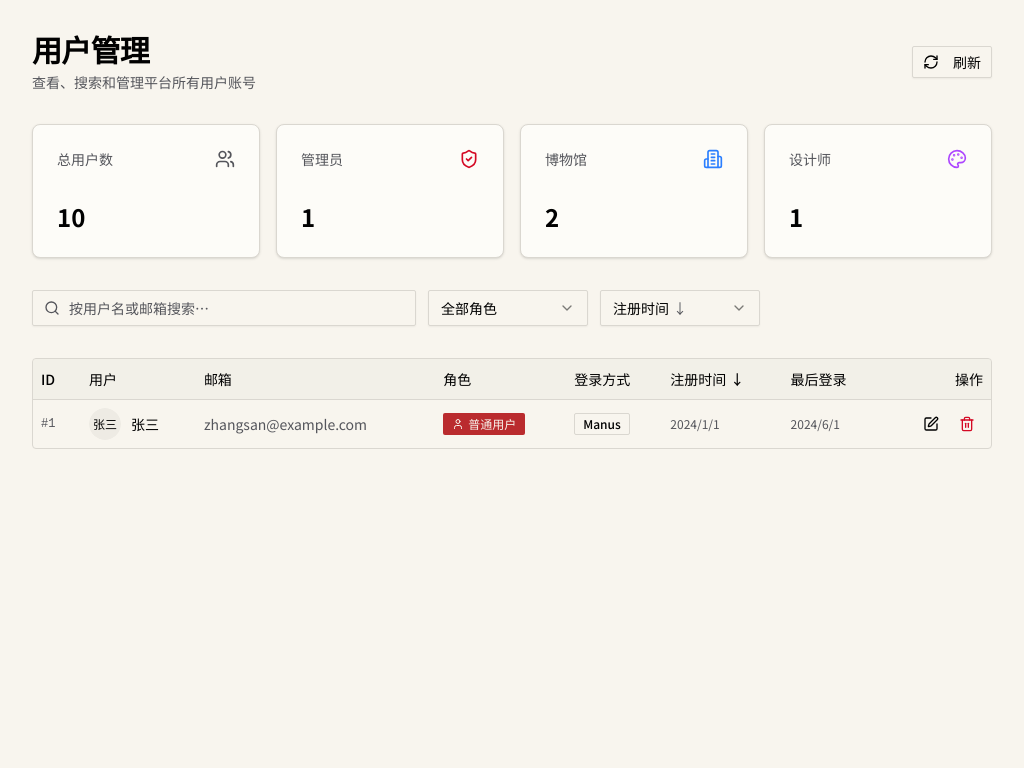
Scenario: P1：用户管理前端组件测试 › 4. 交互行为 › TC-FE-19：点击编辑按钮应打开编辑弹窗（显示"编辑用户"标题）
Click the button titled "编辑用户" at (931, 424), box [915,408,947,440]
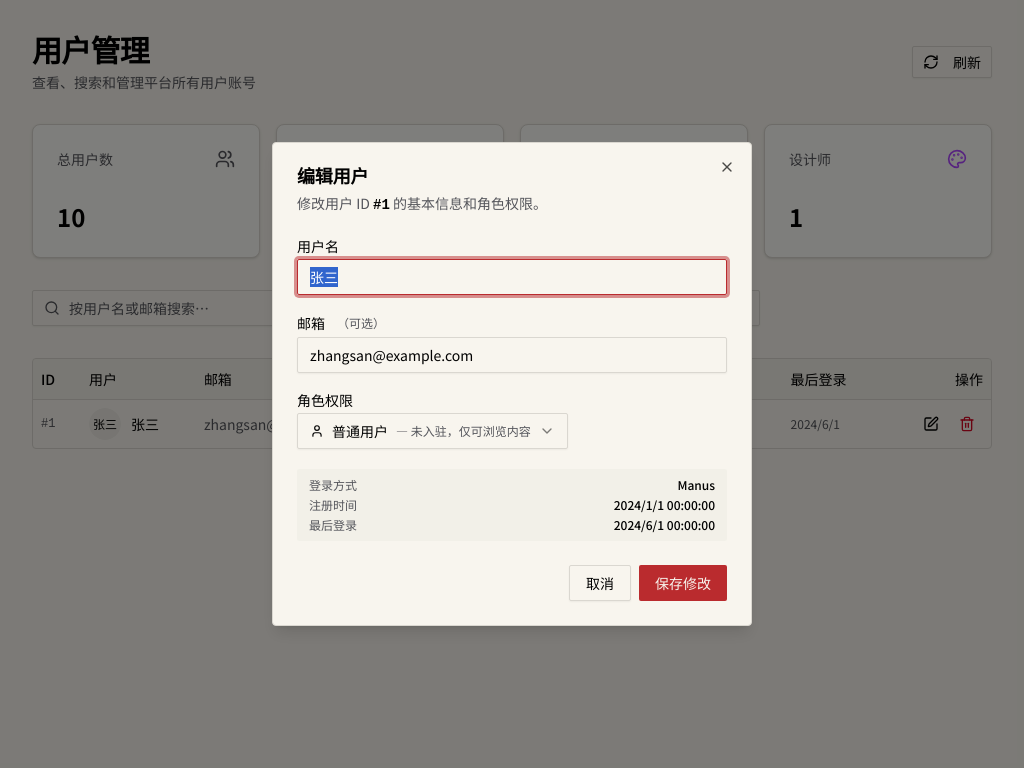
Check: the heading "编辑用户" is shown, box [297,164,368,188]
